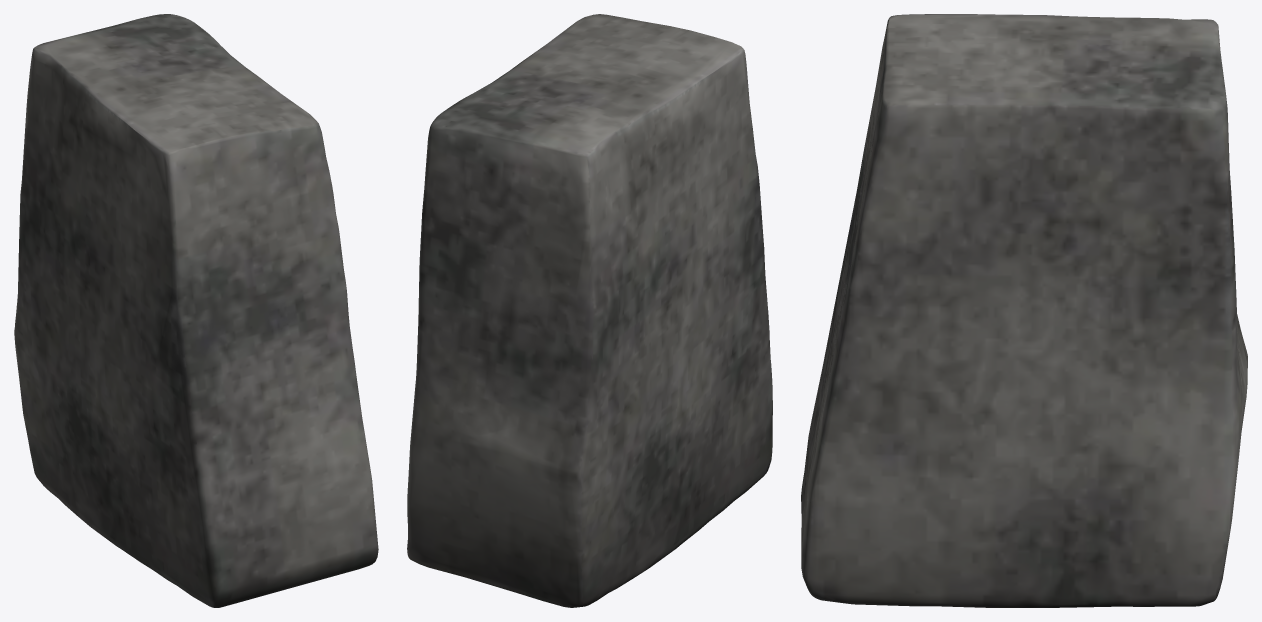
The model's file is chipped-granite-milestone-v001.glb.
3 renders of one model, left to right at view 1: azimuth 30°, elevation 25°; view 2: azimuth 150°, elevation 25°; view 3: azimuth 270°, elevation 25°, orthographic. The views are drawn at different scales.
Visible parts, largest first — view 1: chipped-granite-milestone; view 2: chipped-granite-milestone; view 3: chipped-granite-milestone.
Part boxes in pixels (x1,y1,x2,y2): chipped-granite-milestone: [14, 14, 378, 607]; chipped-granite-milestone: [407, 14, 772, 607]; chipped-granite-milestone: [801, 14, 1247, 607].
Size of the model in its own units: 0.3754 by 0.8398 by 0.6765.
Materials: 1 (1 with a texture image).
